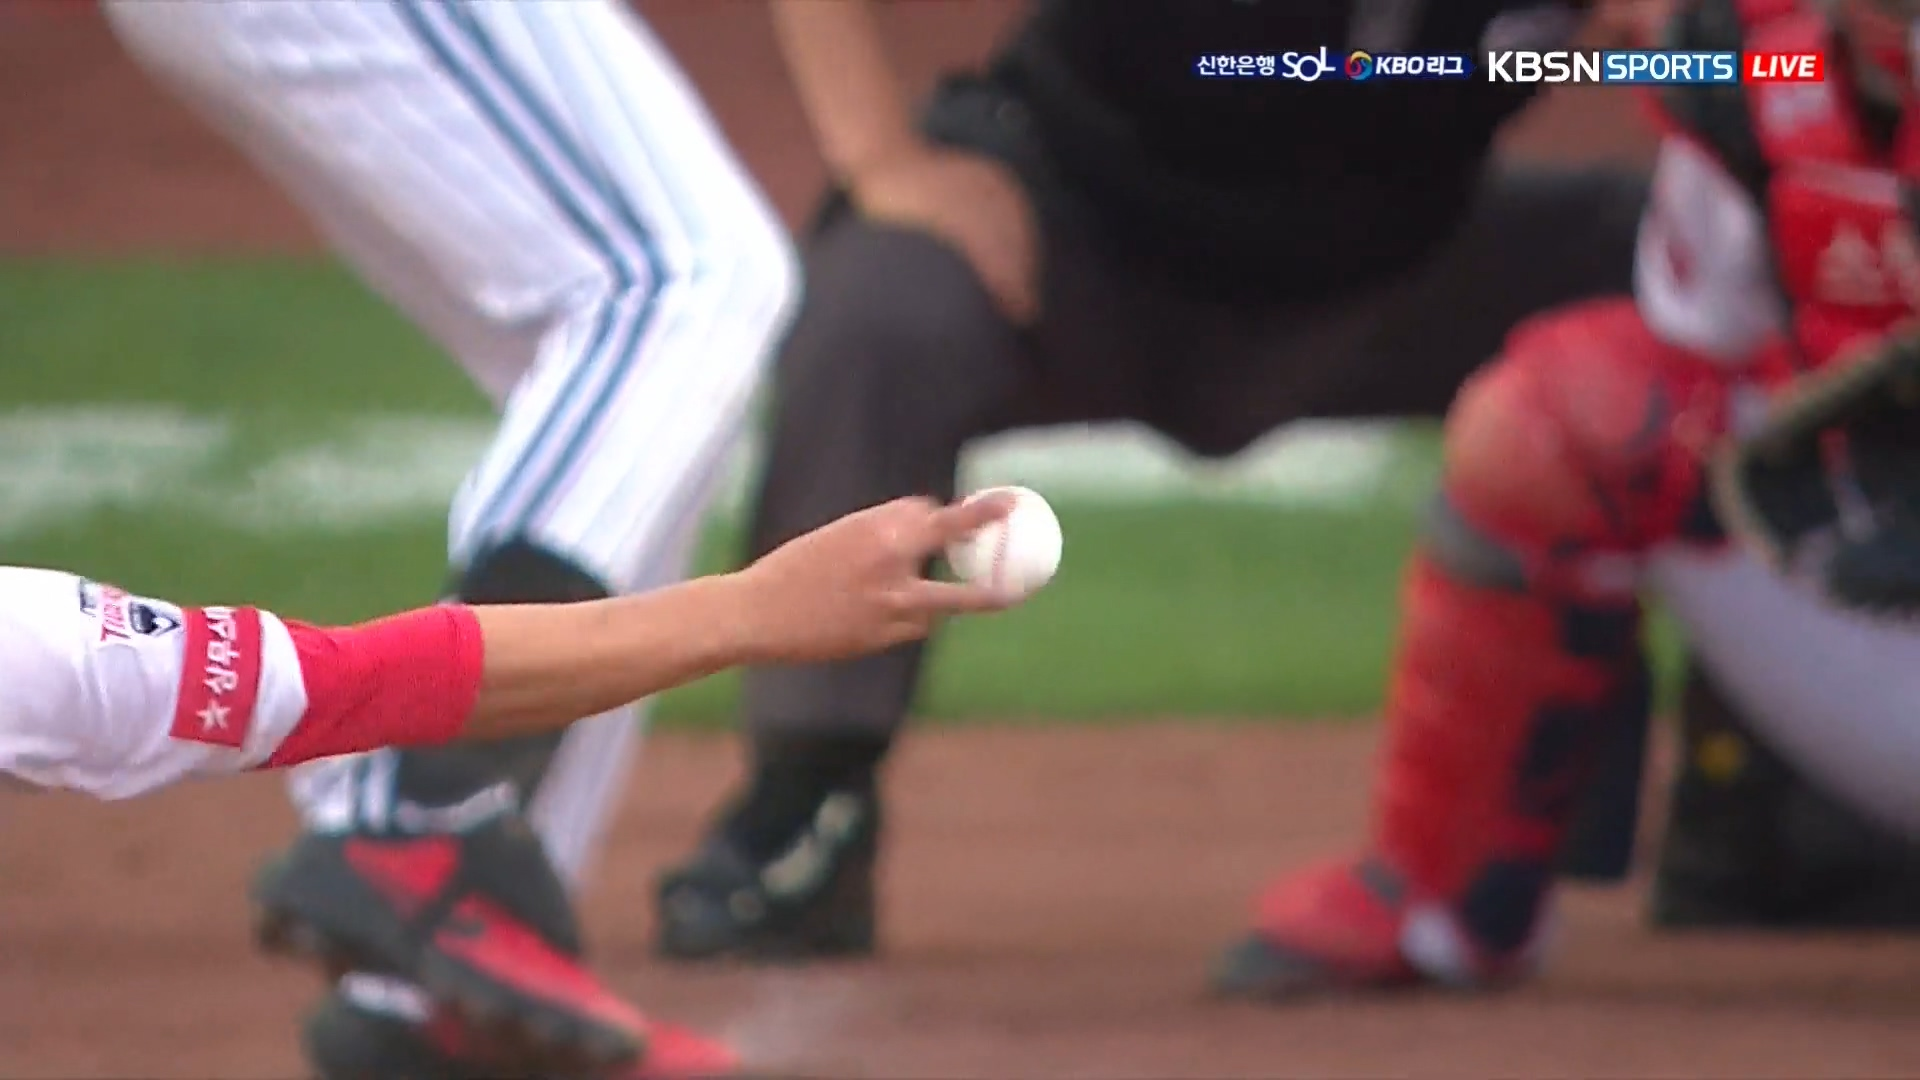zoomin_hand: (303, 460, 1095, 807)
